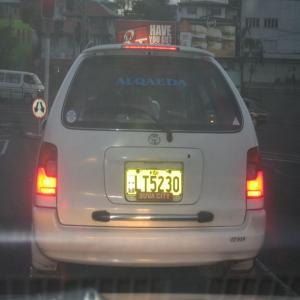Vehicle-registration-plate: (125, 170, 183, 199)
